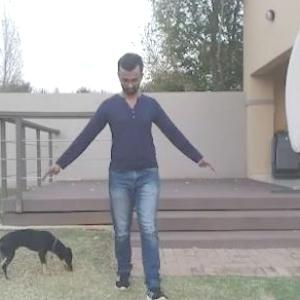land: (60, 55, 210, 295)
